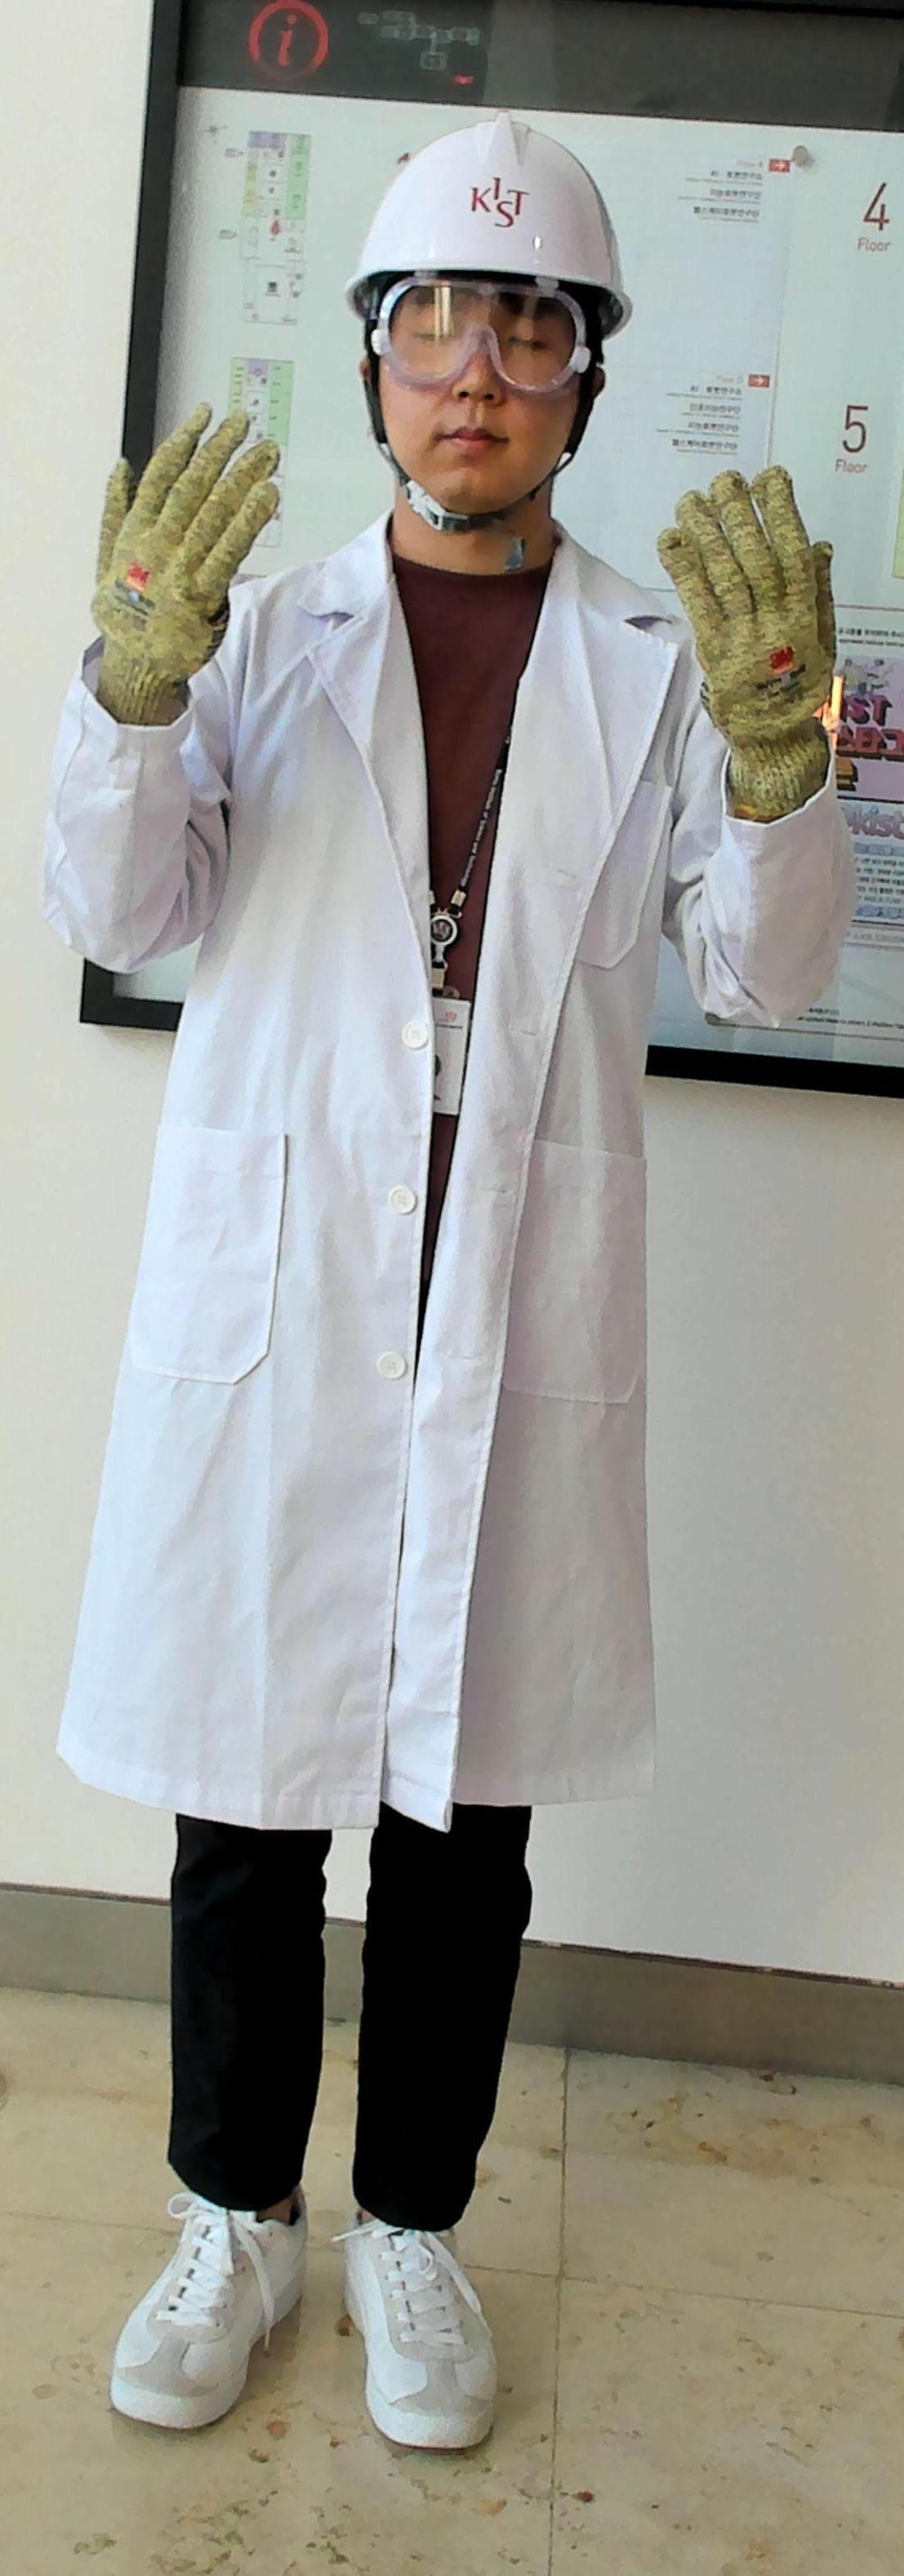lab_coat: (107, 688, 725, 1812)
